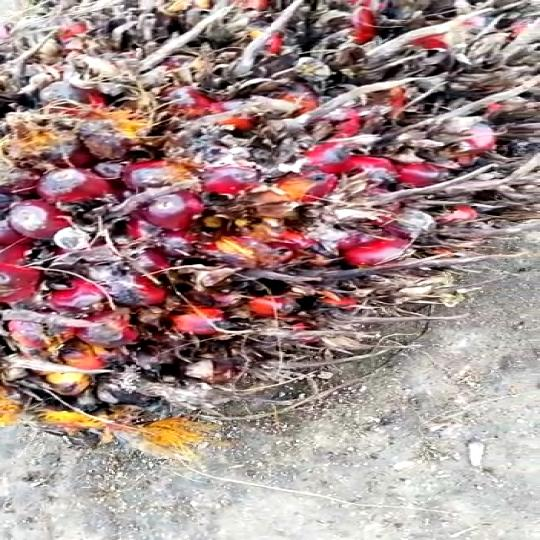terlalu masak: (0, 0, 540, 438)
